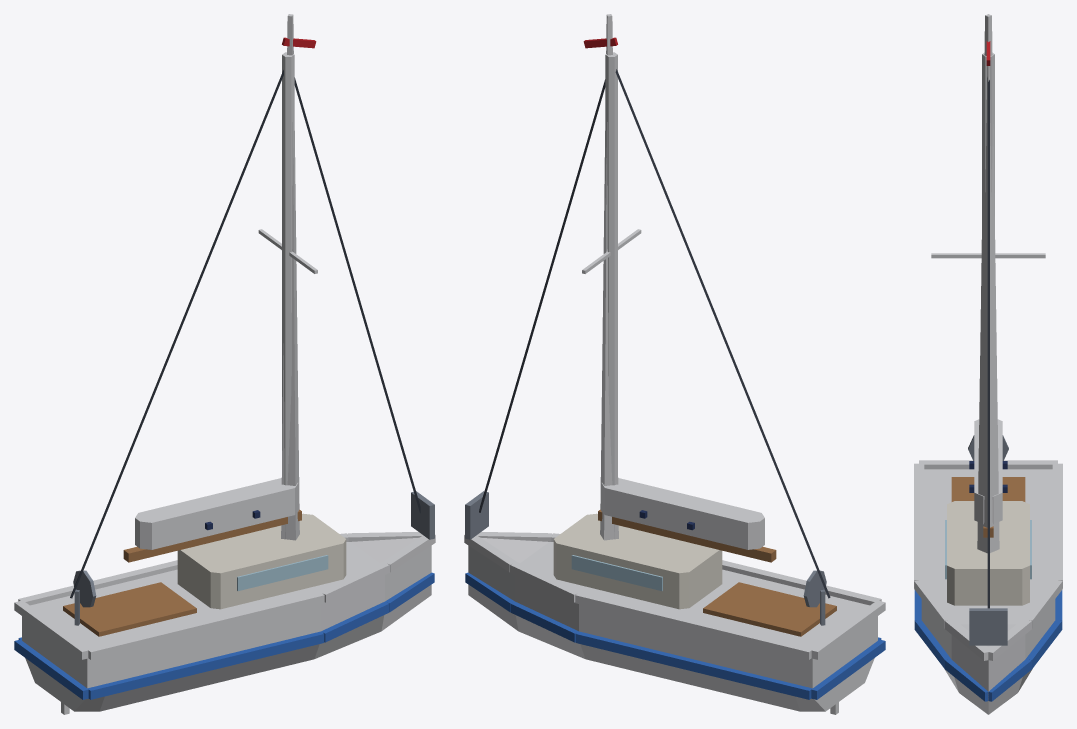
File: sailboat_a.glb
The picture shows the model from 3 angles, left to right: view 1: azimuth 30°, elevation 25°; view 2: azimuth 150°, elevation 25°; view 3: azimuth 270°, elevation 25°; orthographic projection. The views are drawn at different scales.
Visible parts, largest first — view 1: sailboat_a_hull, mast; view 2: sailboat_a_hull, mast; view 3: sailboat_a_hull, mast.
Part boxes in pixels (box(x1,y1,x2,y2)): sailboat_a_hull: box(14, 491, 435, 714); mast: box(70, 14, 420, 598); sailboat_a_hull: box(464, 491, 885, 714); mast: box(479, 14, 830, 598); sailboat_a_hull: box(914, 435, 1062, 714); mast: box(931, 14, 1045, 608).
Bounding box in the file's own units: 3.58 × 5.72 × 1.17.
